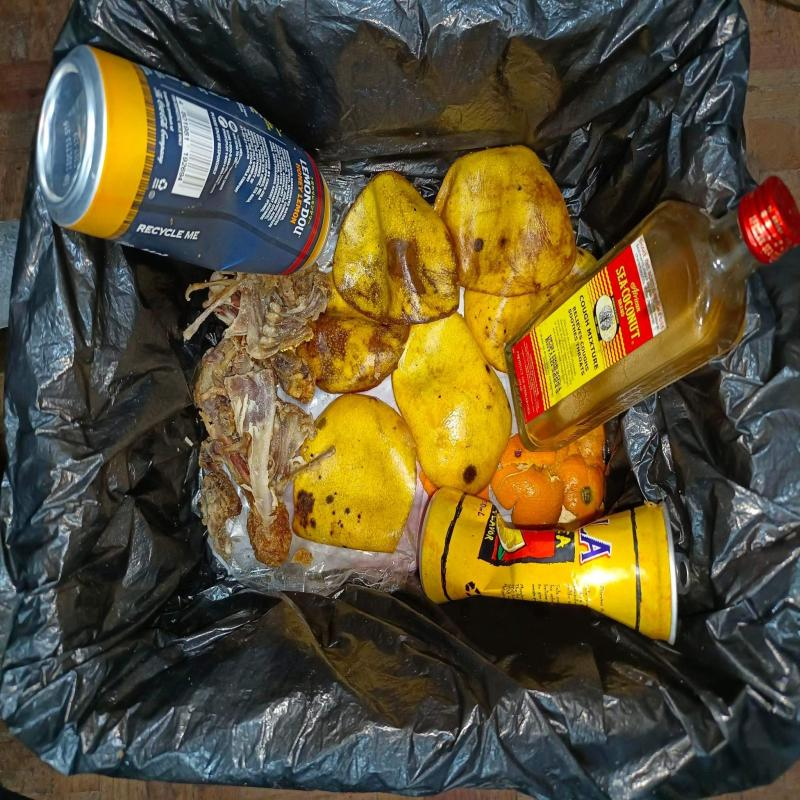aluminum: (34, 44, 327, 277), (417, 484, 679, 647)
fruit peels: (391, 312, 512, 496), (432, 148, 576, 294), (292, 393, 417, 555), (334, 171, 460, 326), (465, 249, 600, 373), (292, 274, 409, 396), (488, 424, 605, 494), (490, 465, 564, 530), (558, 454, 605, 523)
glass bottle: (504, 178, 800, 455)
left-over food: (183, 260, 332, 451), (224, 369, 315, 568), (200, 442, 243, 557)
